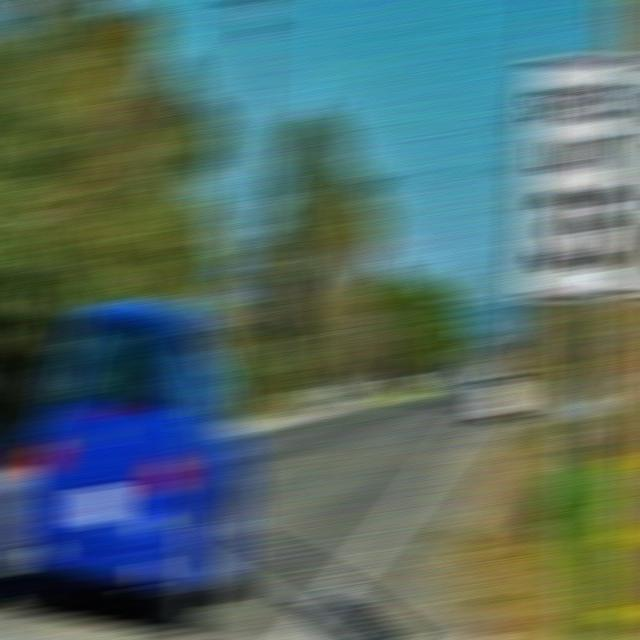speedLimit35: (520, 58, 634, 298)
